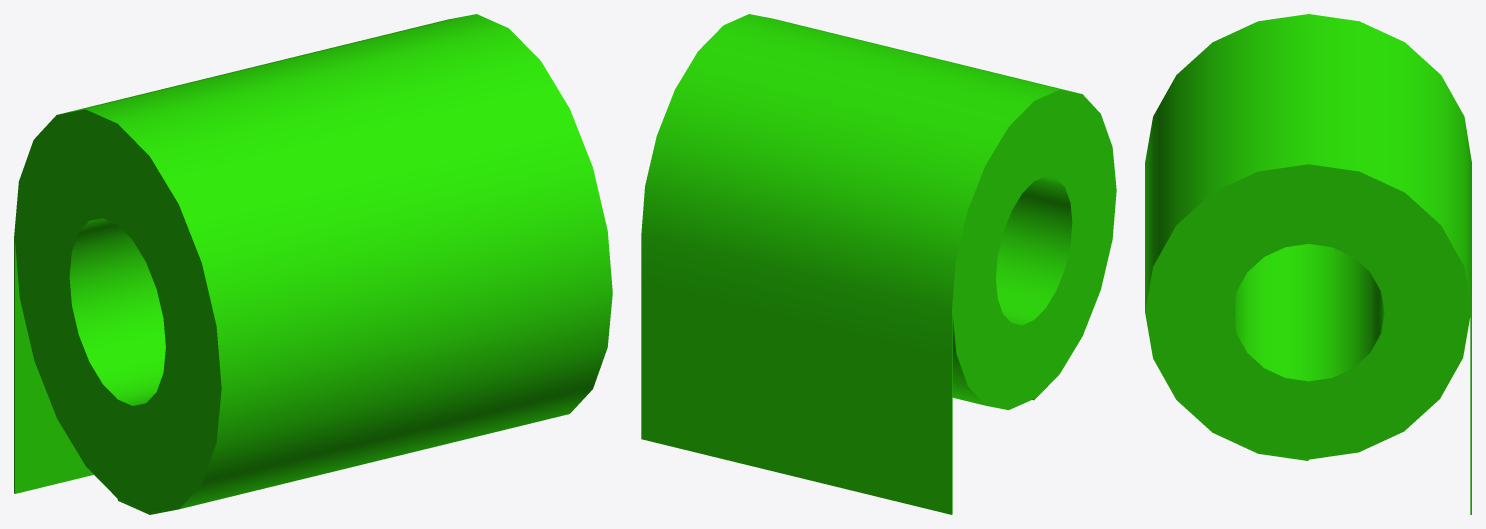
File: Toilet_Paper_01_Lod0.fbx
The picture shows the model from 3 angles, left to right: view 1: azimuth 30°, elevation 25°; view 2: azimuth 150°, elevation 25°; view 3: azimuth 270°, elevation 25°; orthographic projection. The views are drawn at different scales.
Parts seen in each view (by area): view 1: Toilet_Paper_01_Lod0; view 2: Toilet_Paper_01_Lod0; view 3: Toilet_Paper_01_Lod0.
Boxes of the visible parts, x1,y1,x2,y2 form: Toilet_Paper_01_Lod0: [14, 14, 612, 514]; Toilet_Paper_01_Lod0: [641, 14, 1116, 514]; Toilet_Paper_01_Lod0: [1145, 14, 1471, 514].
Size of the model in its own units: 14.16 by 15.41 by 13.02.
